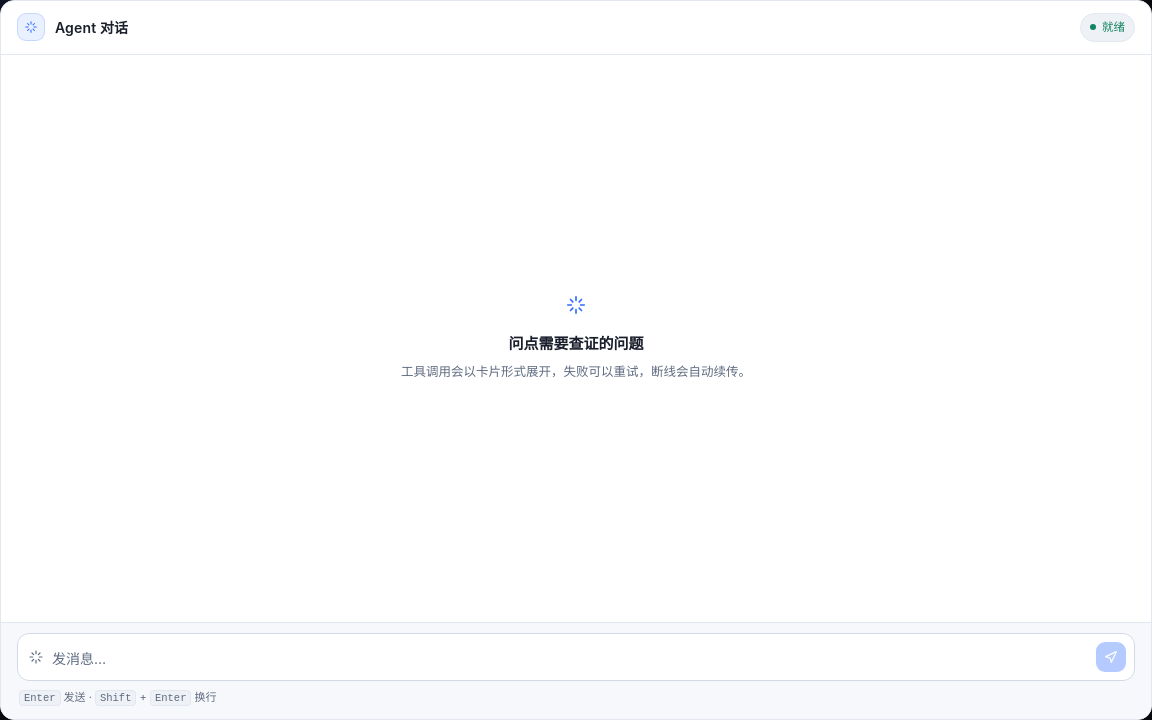
Test case: AgentChat › 工具调用渲染成卡片，结果到达后状态更新
Later steps or results of the test are not shown.
In the text box named "输入消息": {"x": 570, "y": 659} [52, 646, 1088, 672], type "查一下"
Then press Enter
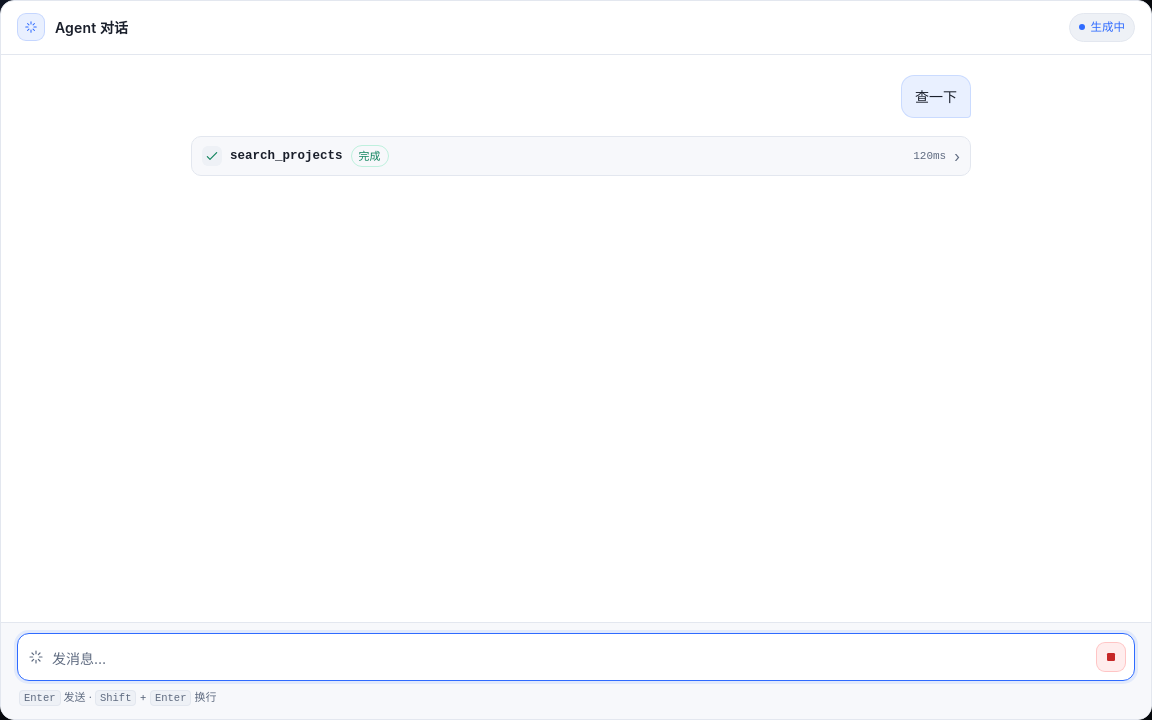
Expected: the element with test id "tool-call-card" shows "search_projects"
展开后能看到入参与结果
Click the button "search_projects 完成 120ms ›": {"x": 286, "y": 156} [192, 137, 970, 175]
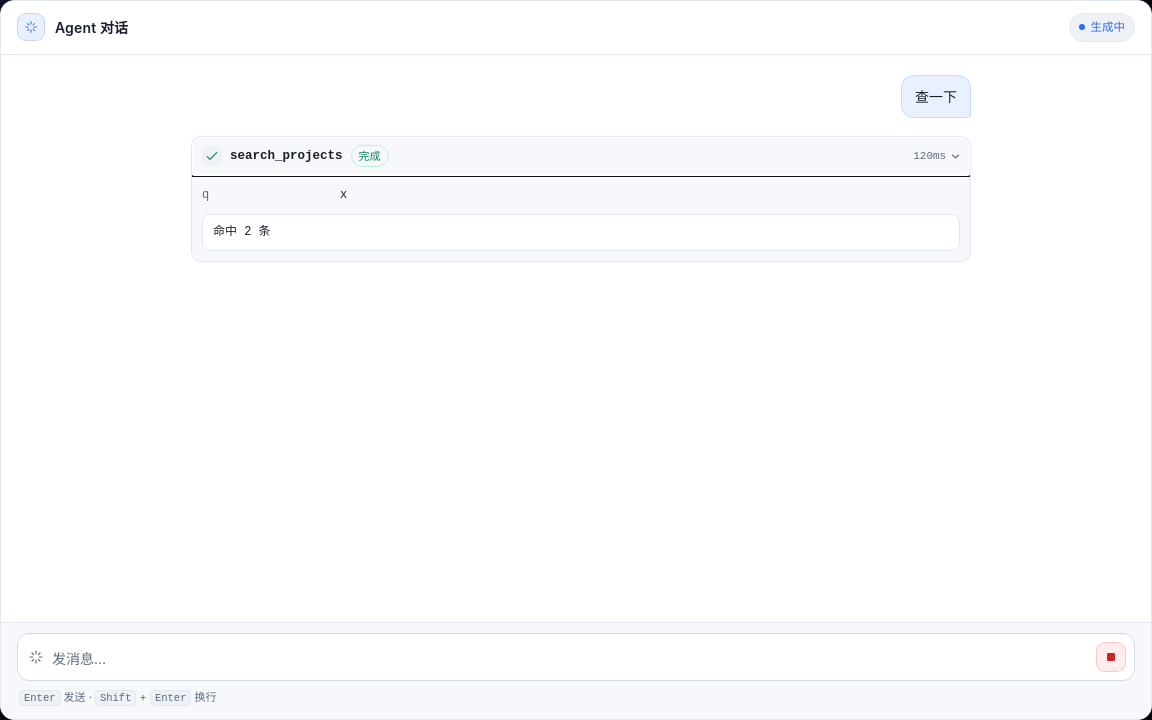
Expected: the text with test id "tool-preview" reads "命中 2 条", [213, 225, 271, 239]
